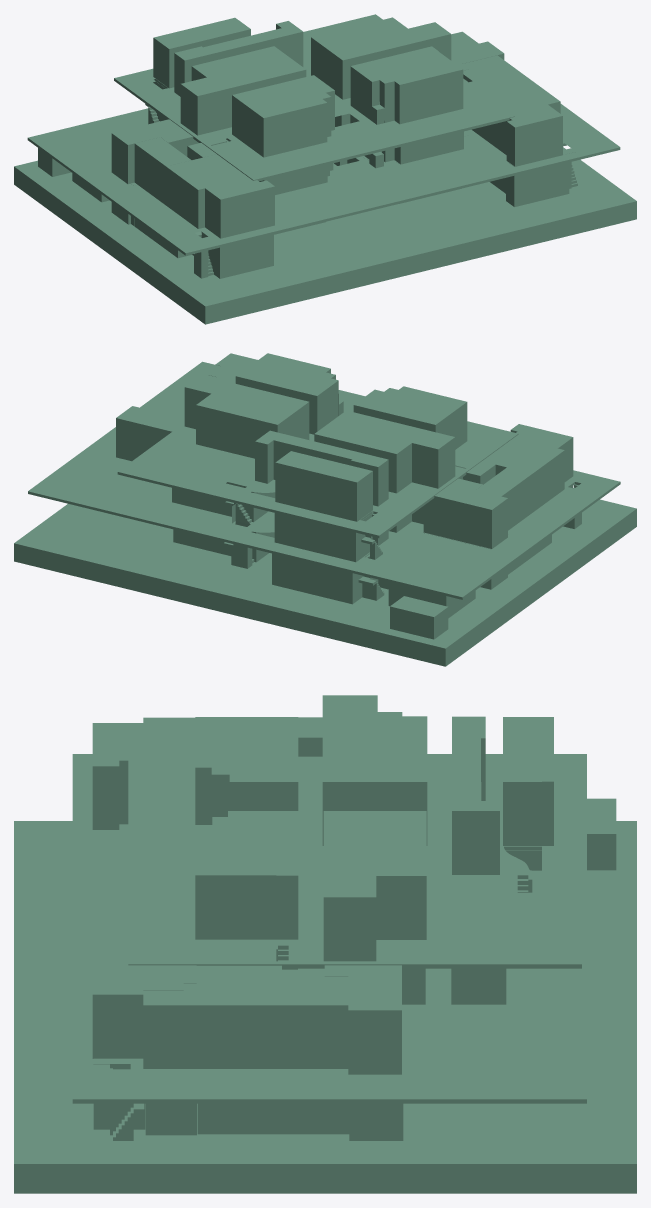
Rendered from OCH FC only.glb.
3 renders of one model, top to bottom at view 1: azimuth 30°, elevation 25°; view 2: azimuth 150°, elevation 25°; view 3: azimuth 270°, elevation 25°, orthographic. The views are drawn at different scales.
Visible parts, largest first — view 1: AF; view 2: AF; view 3: AF.
Boxes of the visible parts, box(x1,y1,x2,y2) form: AF: box(14, 14, 636, 324); AF: box(14, 353, 636, 666); AF: box(14, 695, 636, 1193).
Bounding box in the file's own units: 50.04 × 15.16 × 38.15.
